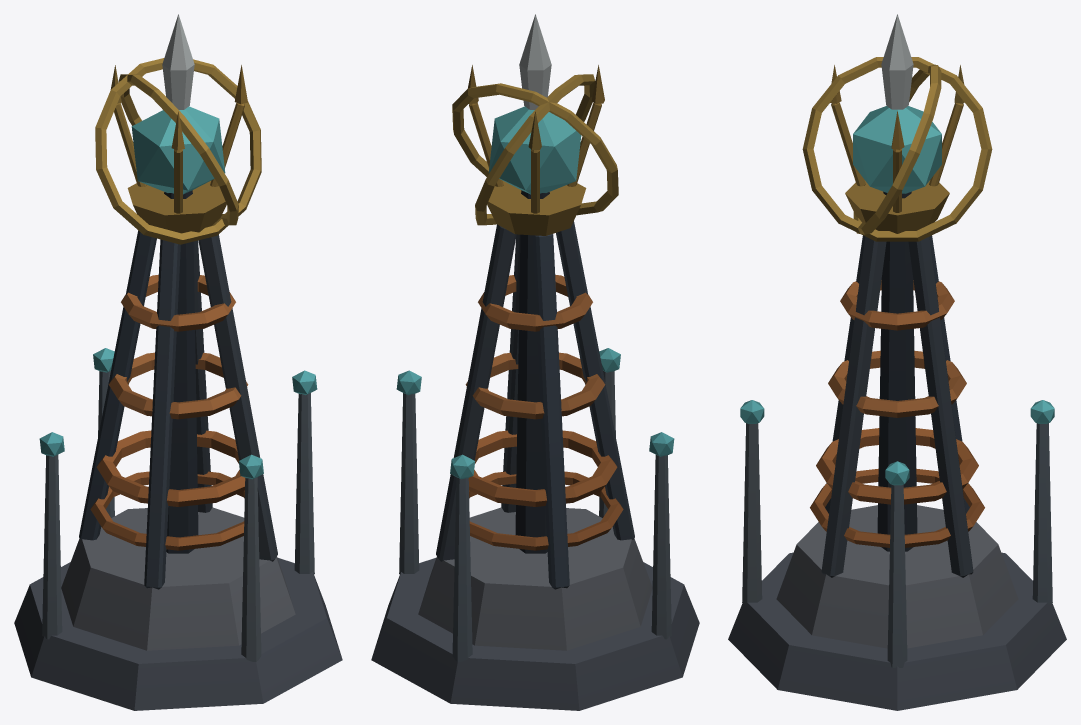
The model's file is def_stormspire.glb.
3 renders of one model, left to right at view 1: azimuth 30°, elevation 25°; view 2: azimuth 150°, elevation 25°; view 3: azimuth 270°, elevation 25°, orthographic.
Parts seen in each view (by area): view 1: Base, Up2, Up3; view 2: Base, Up2, Up3; view 3: Base, Up2, Up3.
Boxes of the visible parts, box(x1,y1,x2,y2) form: Base: box(14, 65, 342, 710); Up2: box(39, 348, 317, 661); Up3: box(95, 14, 261, 244); Base: box(371, 65, 699, 710); Up2: box(396, 348, 674, 661); Up3: box(452, 14, 618, 225); Base: box(728, 65, 1066, 710); Up2: box(740, 400, 1054, 667); Up3: box(802, 14, 992, 241).
Size of the model in its own units: 1.68 by 3.42 by 1.68.
